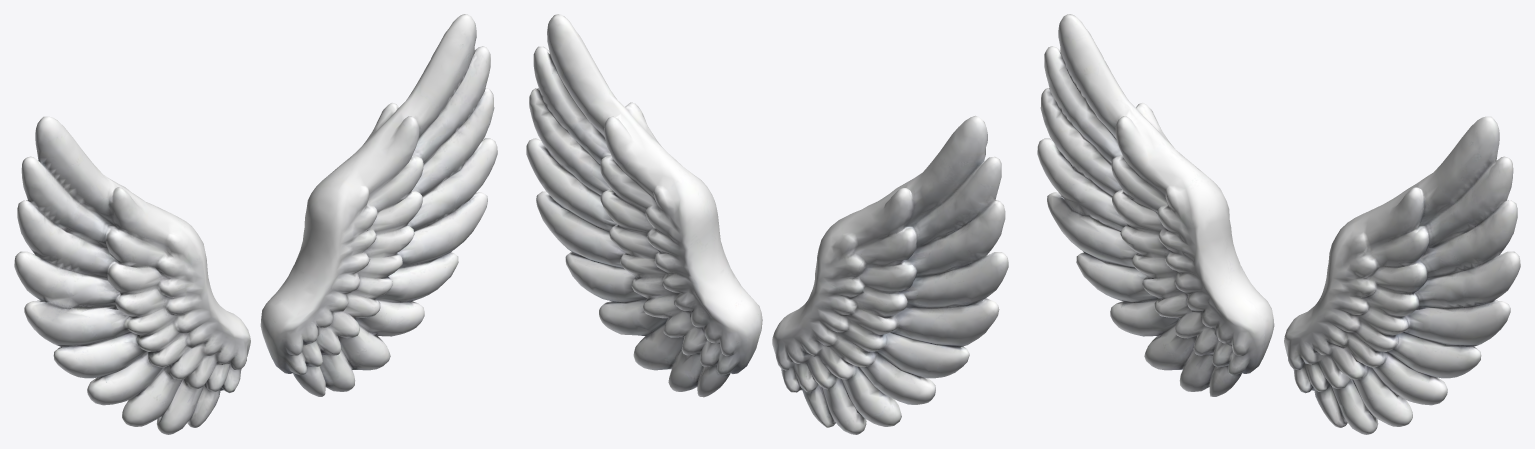
The picture shows the model from 3 angles, left to right: view 1: azimuth 30°, elevation 25°; view 2: azimuth 150°, elevation 25°; view 3: azimuth 330°, elevation 25°; orthographic projection.
Size of the model in its own units: 1.9 by 1.31 by 0.2153.
1 material, 1 textured.
